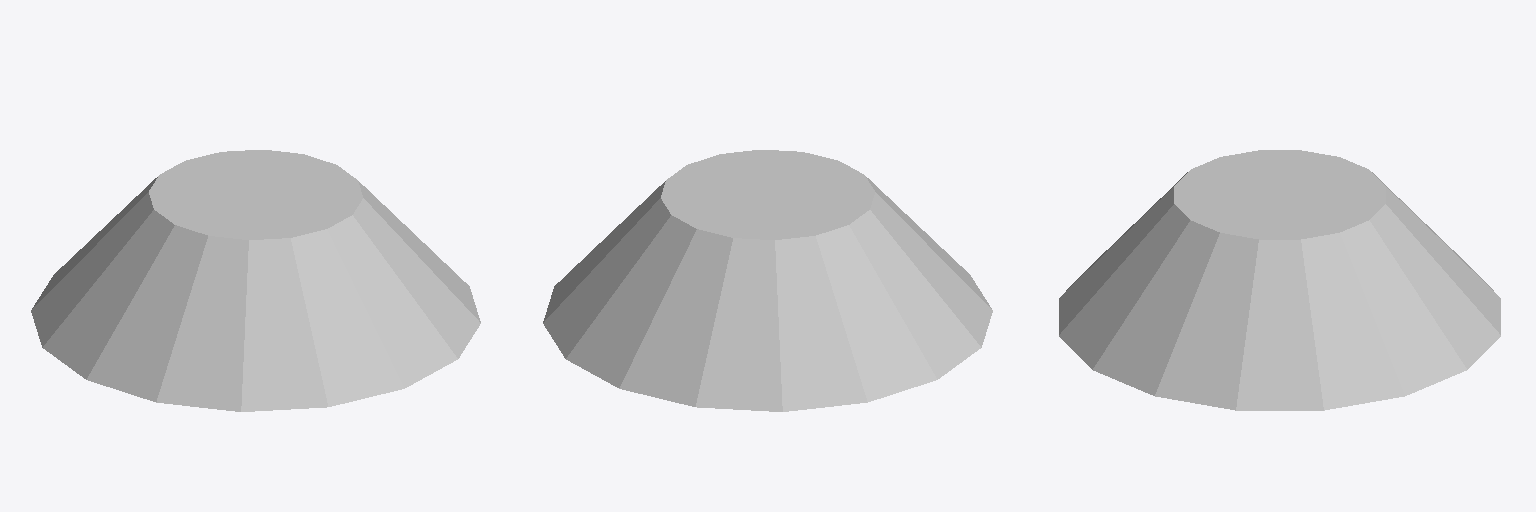
File: vega_adapter_s2_s1_1_collider.obj
3 renders of one model, left to right at view 1: azimuth 30°, elevation 25°; view 2: azimuth 150°, elevation 25°; view 3: azimuth 270°, elevation 25°, orthographic.
Parts seen in each view (by area): view 1: vega_adapter_s2_s1_1; view 2: vega_adapter_s2_s1_1; view 3: vega_adapter_s2_s1_1.
Part boxes in pixels (x1,y1,x2,y2): vega_adapter_s2_s1_1: (31, 150, 480, 411); vega_adapter_s2_s1_1: (543, 150, 992, 411); vega_adapter_s2_s1_1: (1059, 150, 1500, 410).
Bounding box in the file's own units: 2.46 × 0.75 × 2.46.